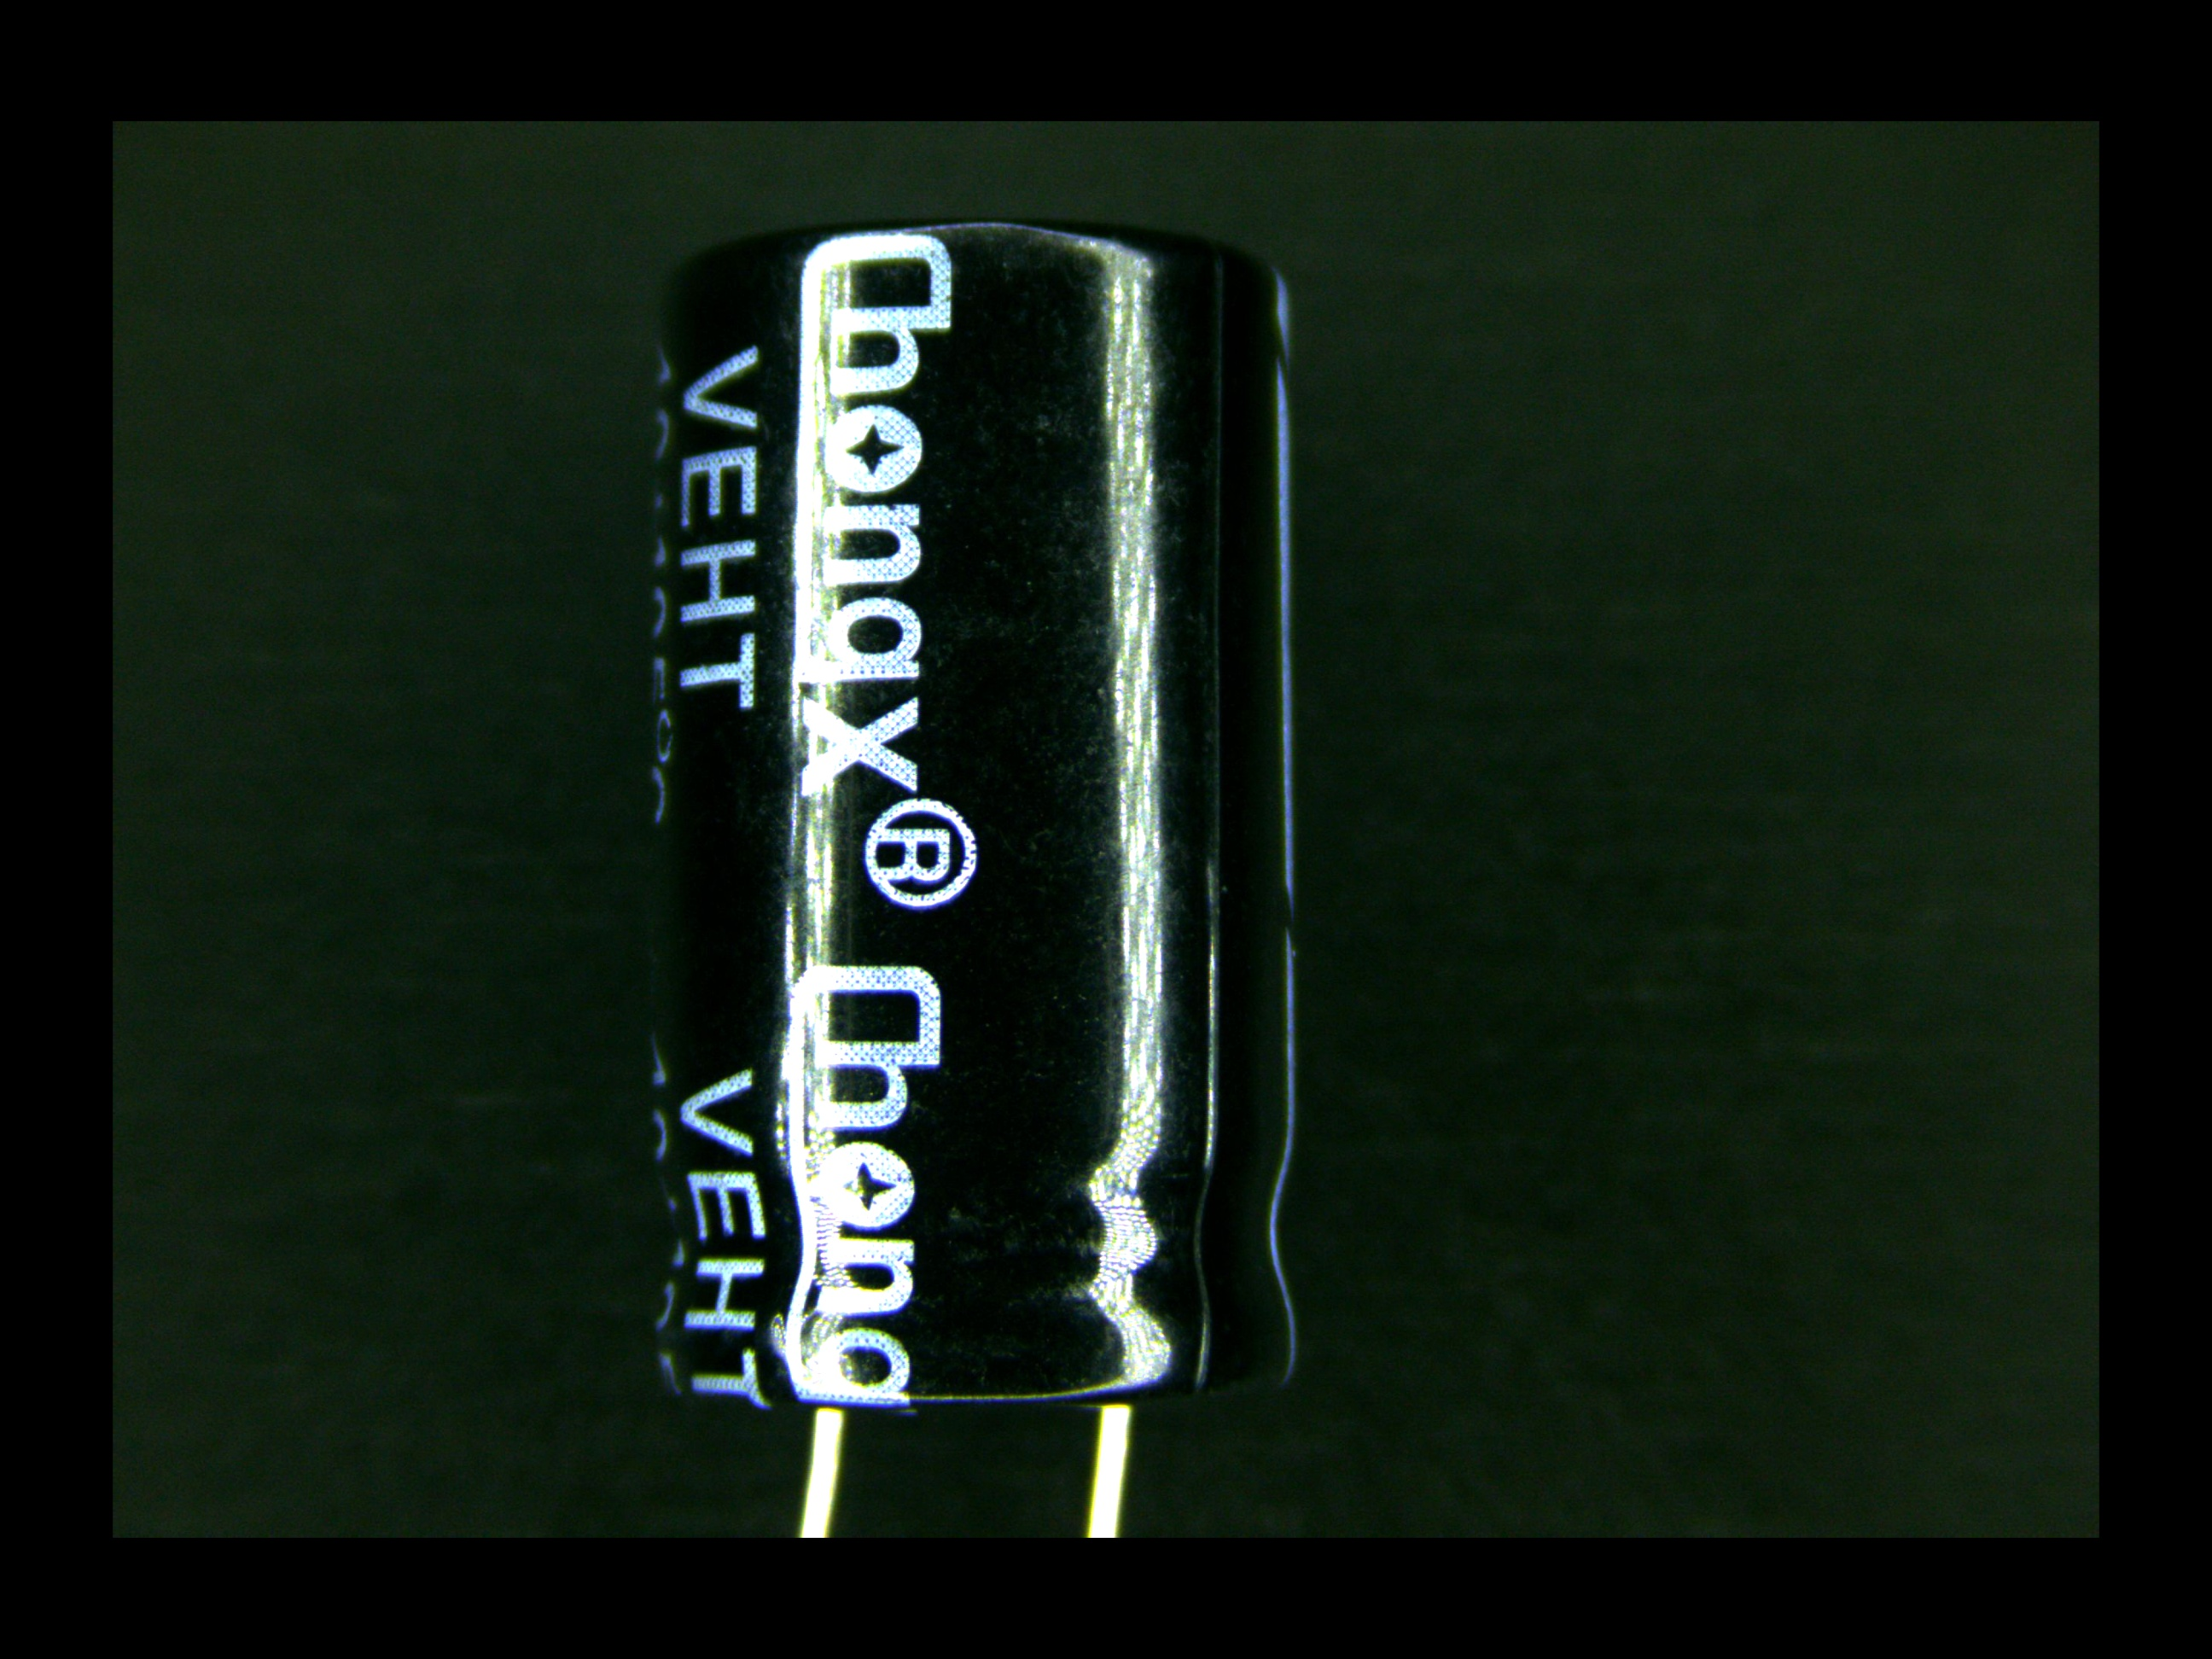c3: (627, 211, 1312, 1429)
